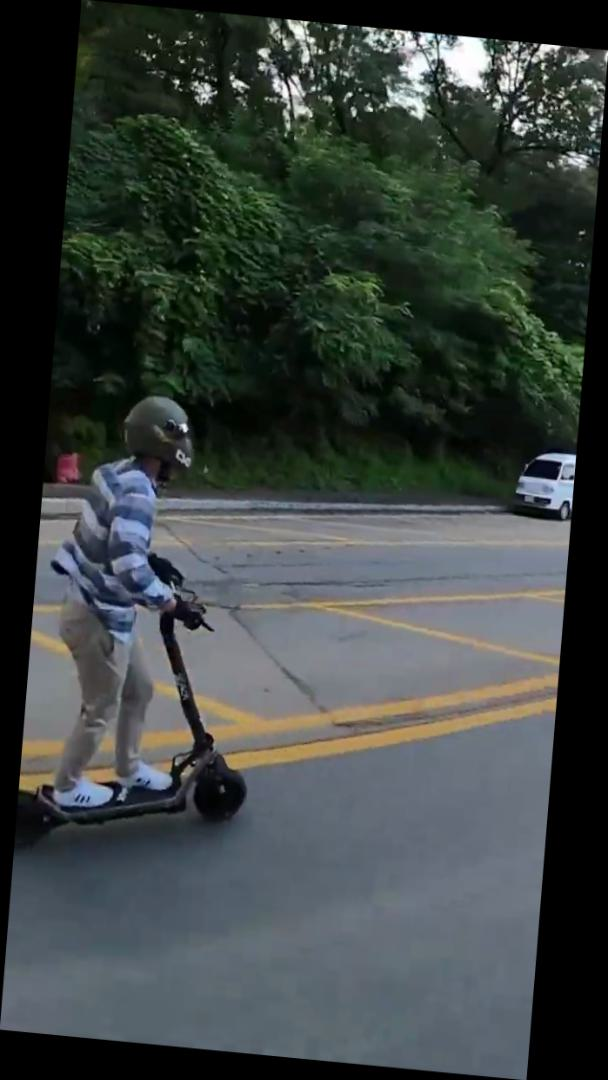helmet: (14, 386, 280, 877)
